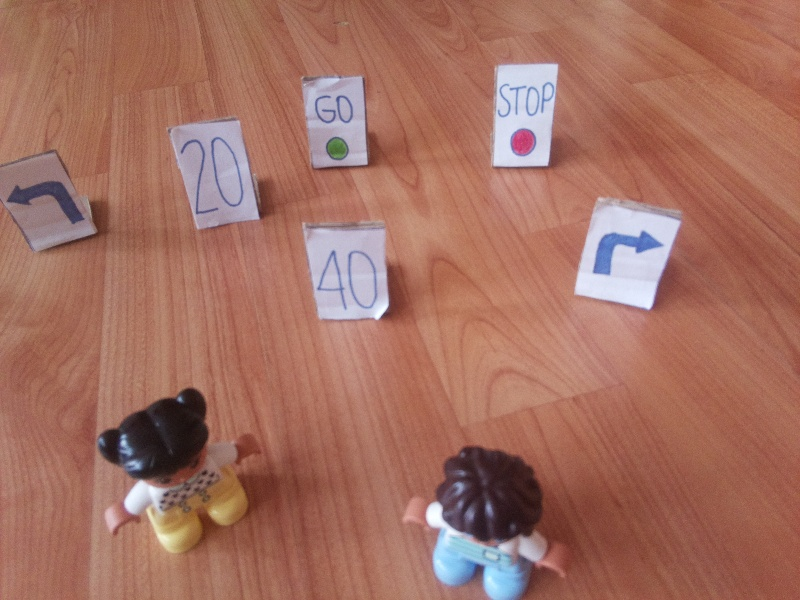20: (180, 133, 249, 214)
40: (314, 241, 378, 313)
go: (313, 93, 361, 160)
person: (78, 387, 263, 551), (394, 439, 575, 595)
stop: (499, 74, 555, 155)
turn left: (7, 179, 90, 231)
turn right: (591, 223, 661, 282)
